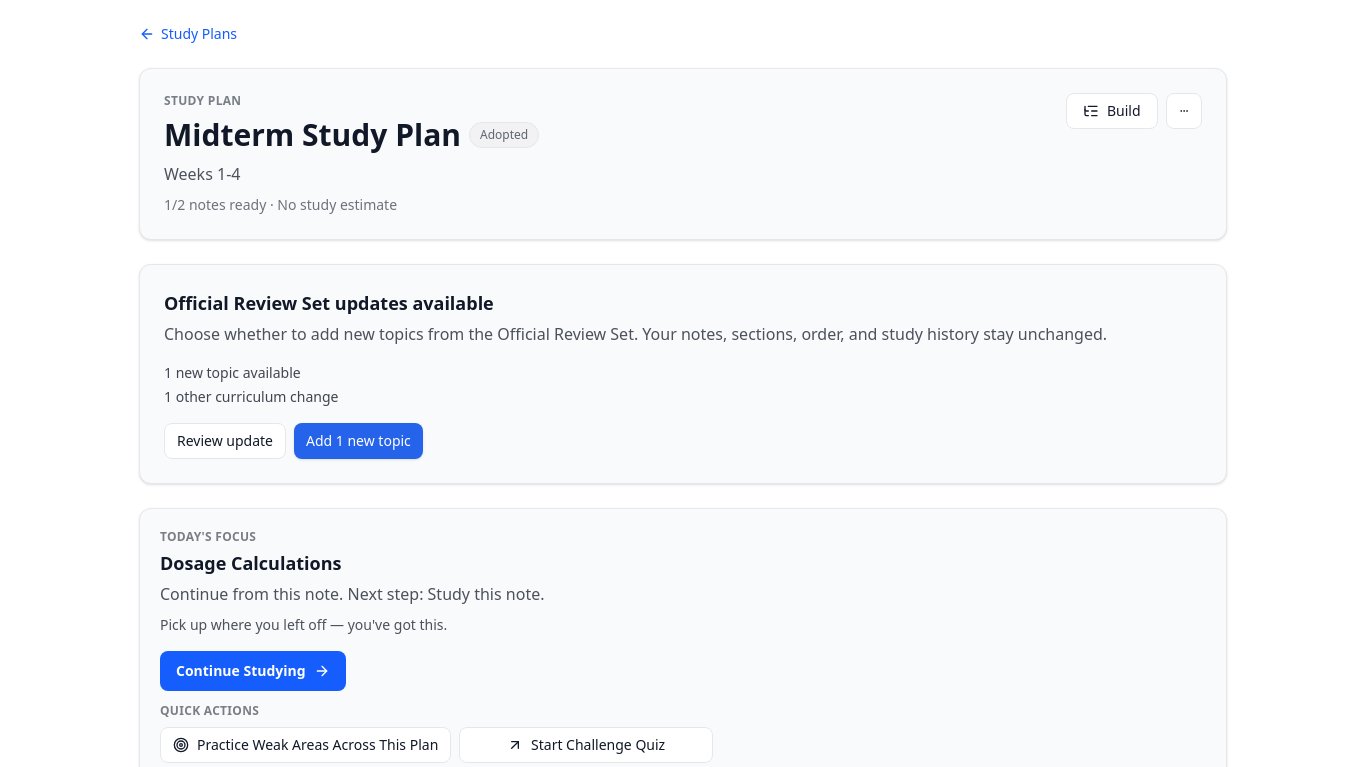
Test: CollectionDetailPageClient › previews additive and surface-only source changes and applies only after learner choice
The image size is (1366, 767).
Expected: the heading "Official Review Set updates available" is shown, [164,291,494,315]
Expected: the list item "1 new topic available" is shown, [164,363,301,382]
Click the button "Review update".
click(225, 441)  # box [164,423,286,459]
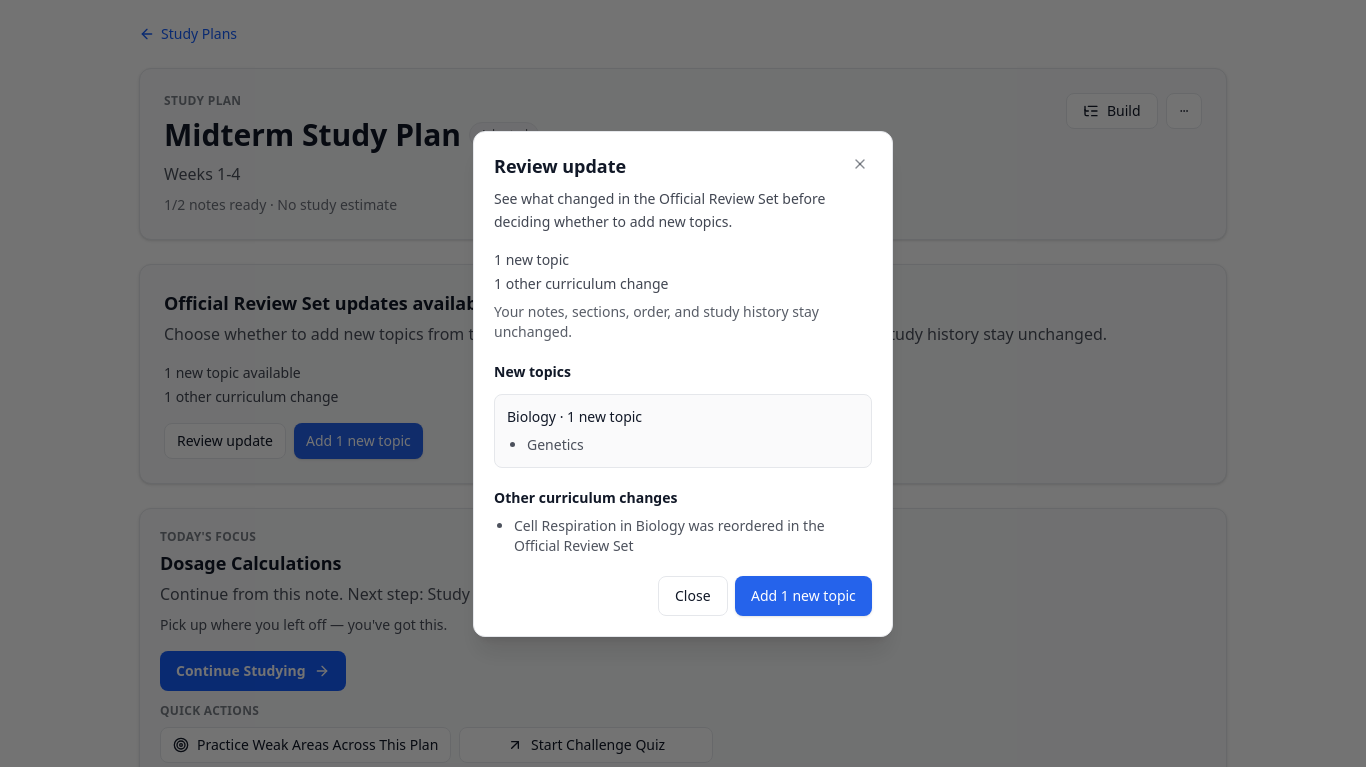
Expected: the text "Biology · 1 new topic" is shown, [507,407,642,426]
Expected: the list item "Genetics" is shown, [527,435,584,454]
Expected: the heading "Other curriculum changes" is shown, [494,488,678,507]
Click the button "Close".
click(692, 596)  # box [658,576,727,616]
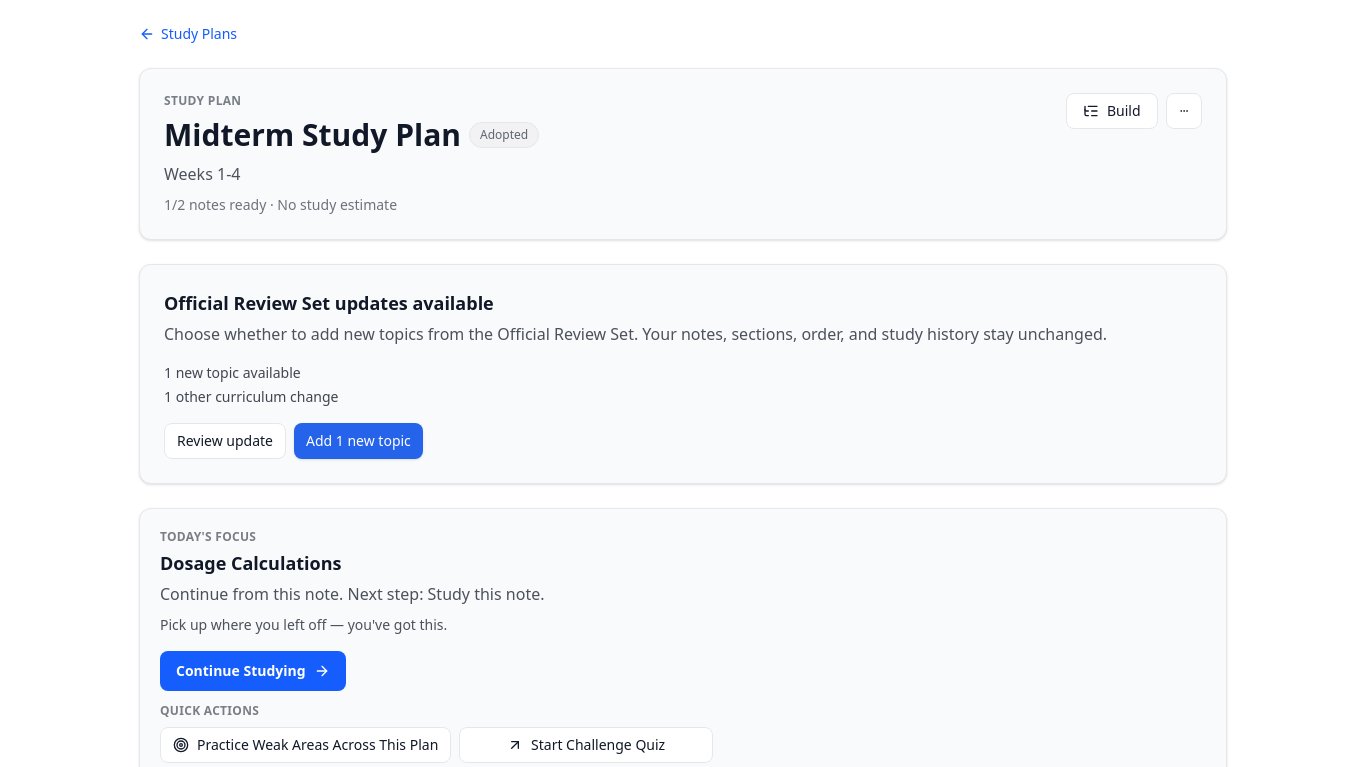
Click the button "Add 1 new topic".
click(358, 441)  # box [294,423,423,459]
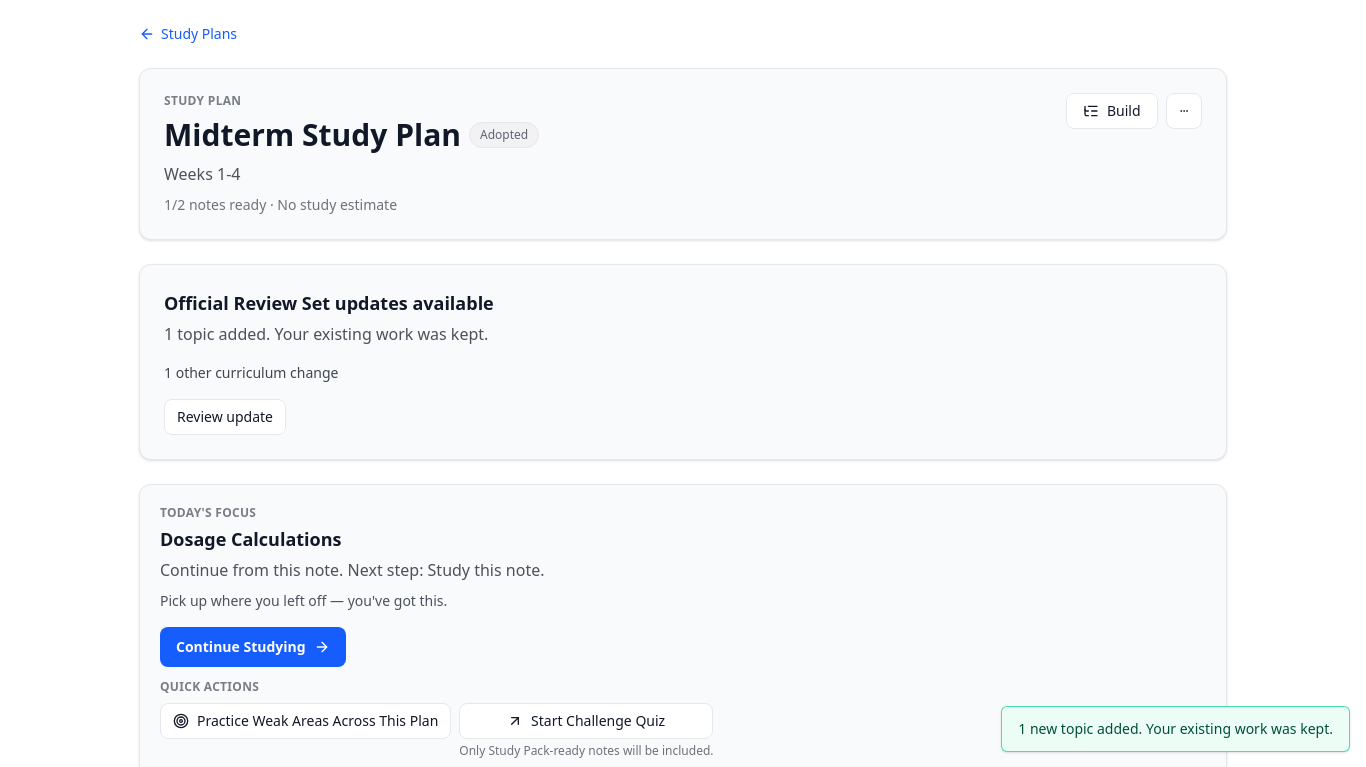
Expected: the text "1 new topic added. Your existing work was kept." is shown, [1001,706,1350,752]
Expected: the list item "1 new topic available" is gone
Expected: the button "Add 1 new topic" is gone
